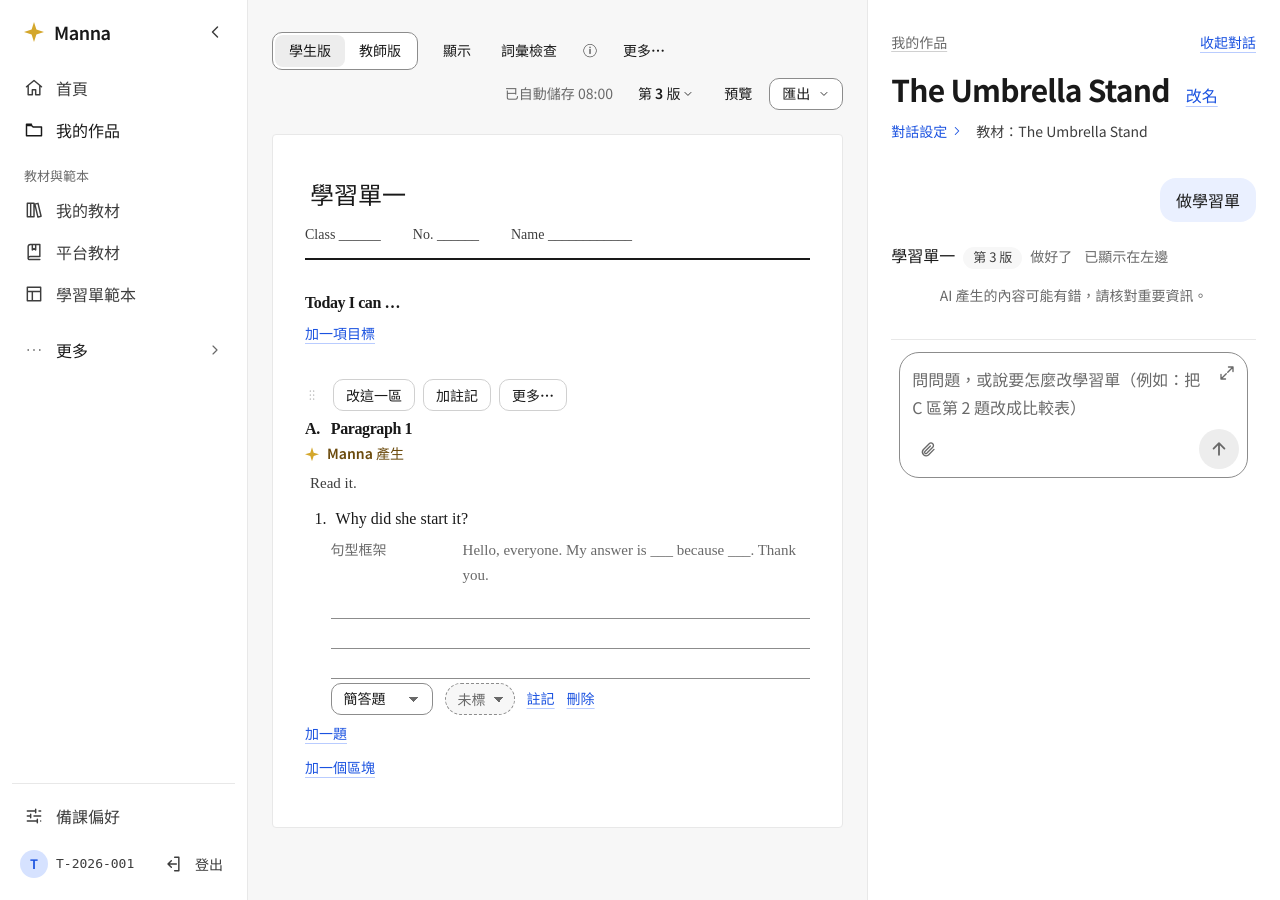
Test: the worksheet pane of the 備課對話 › 詞彙檢查 opens the check in a dialog; closing returns focus and leaves the worksheet alone
Click the button "詞彙檢查" at (529, 51), box top-left (488, 35), bottom-right (570, 67)
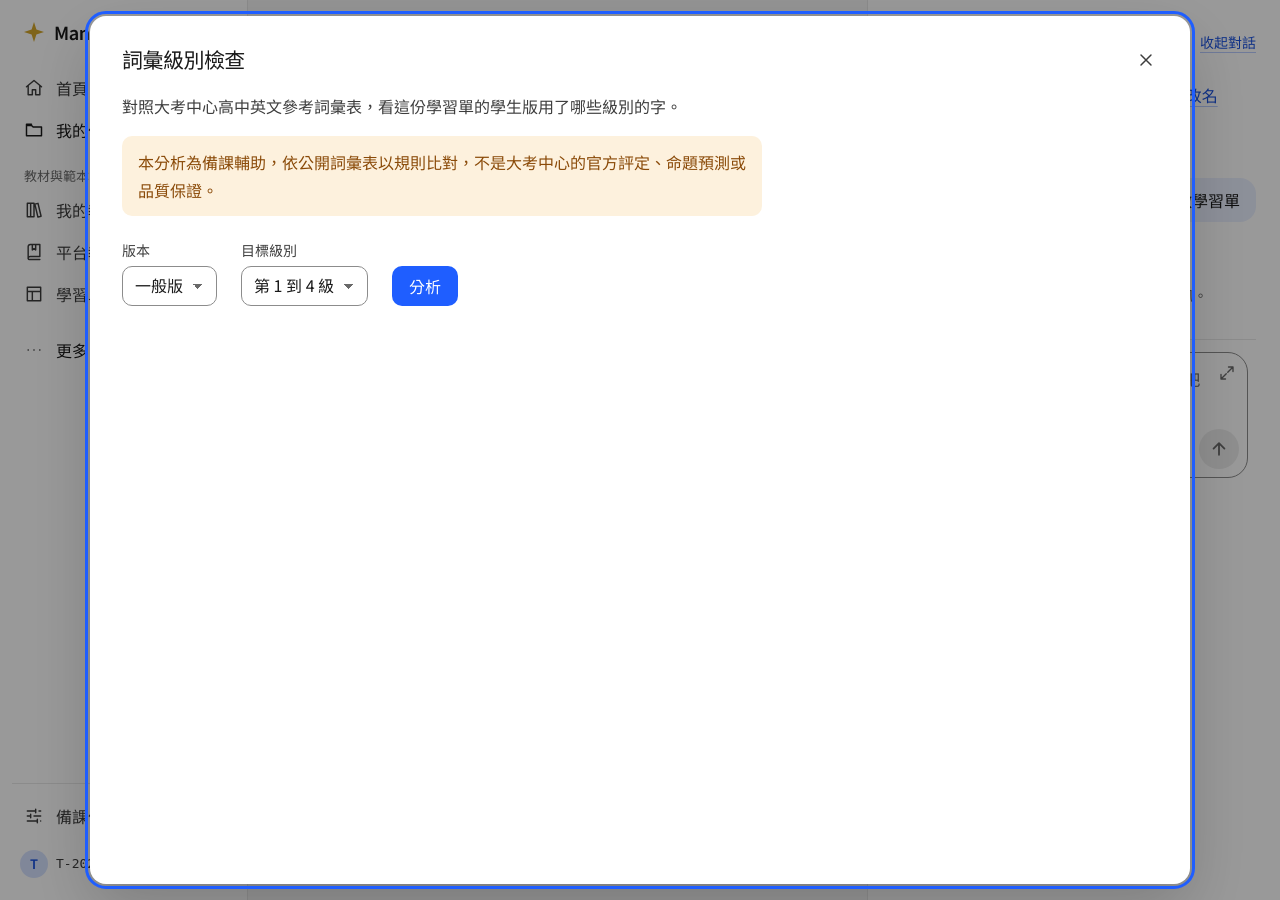
Expected: the button "分析" is shown, top-left (392, 266), bottom-right (458, 306)
Press Escape
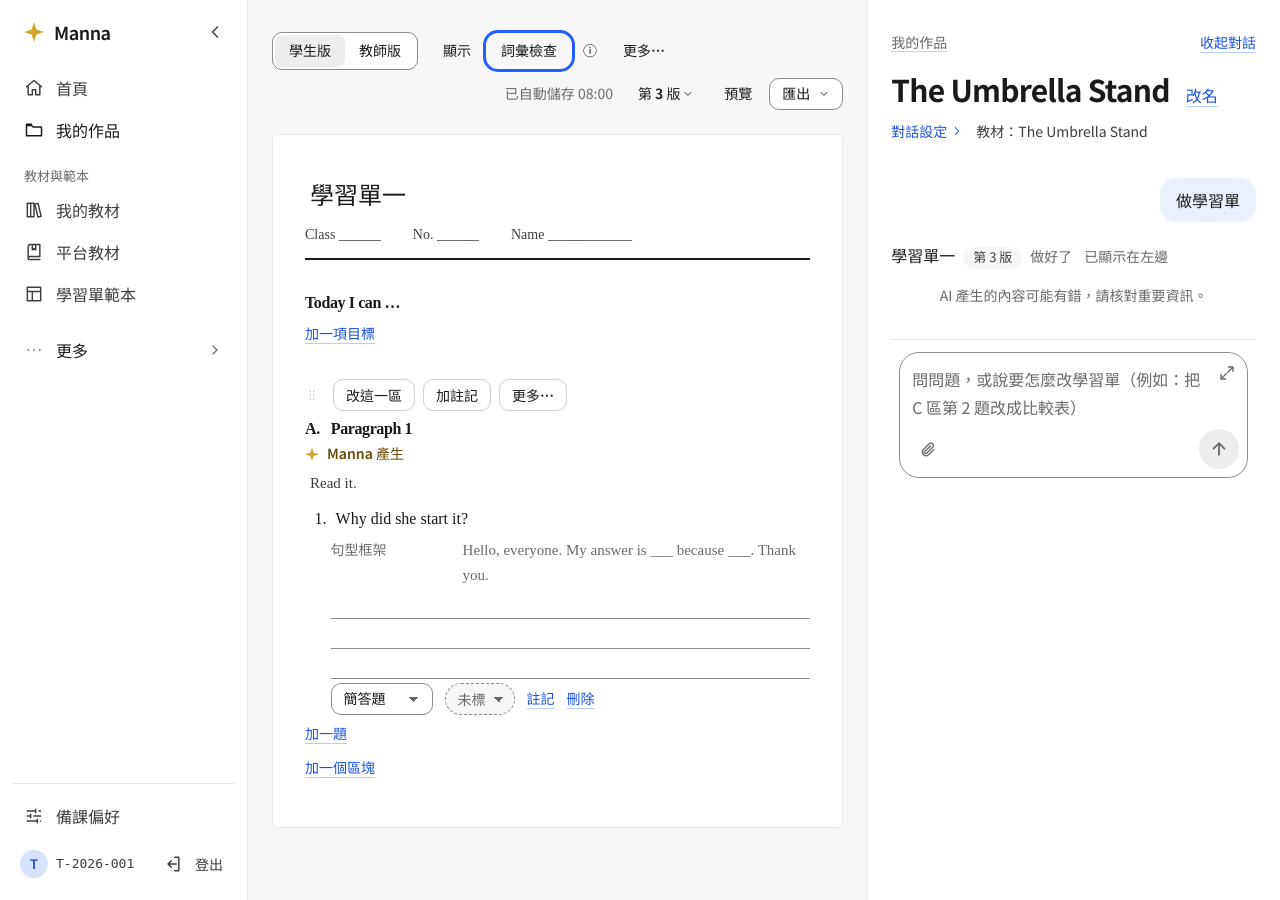
Expected: the heading "詞彙級別檢查" is gone
